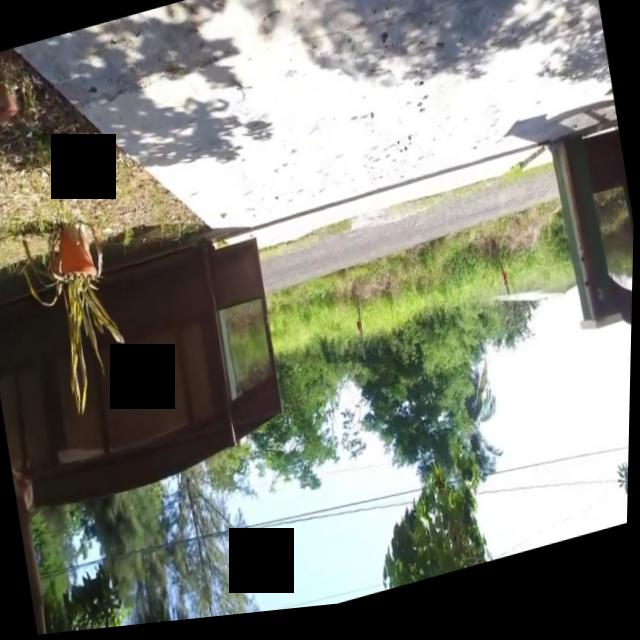Building: (0, 225, 295, 512), (548, 136, 637, 359)
Tree: (382, 491, 487, 596)
